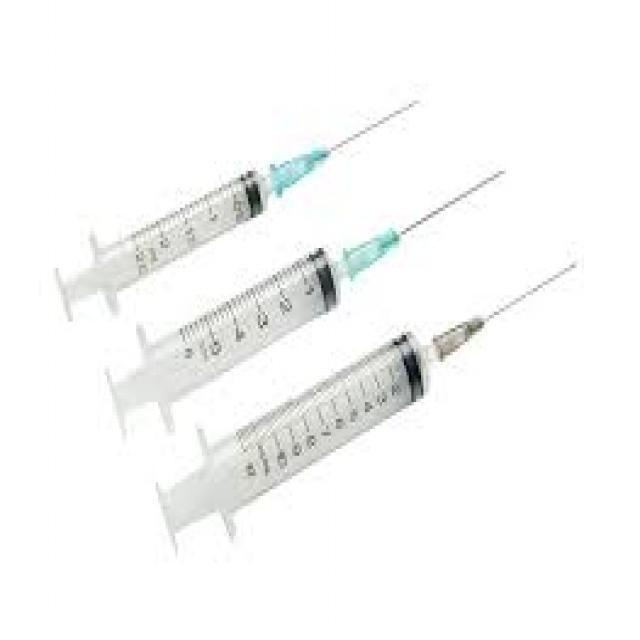syringe: (80, 100, 592, 541)
